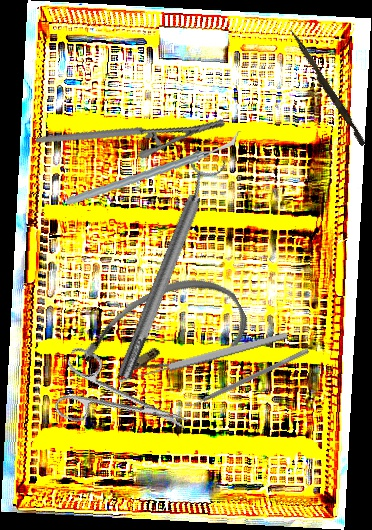Cannula: (72, 258, 258, 414)
Chopper: (65, 119, 242, 218)
Fixation Ring: (104, 148, 230, 384)
Iris Scissors: (48, 345, 199, 460)
Needle Holder: (35, 76, 227, 186)
Pusher: (285, 28, 369, 147)
Spatula Surgical: (182, 342, 310, 413)
Surgical Spoon: (117, 330, 289, 386)
